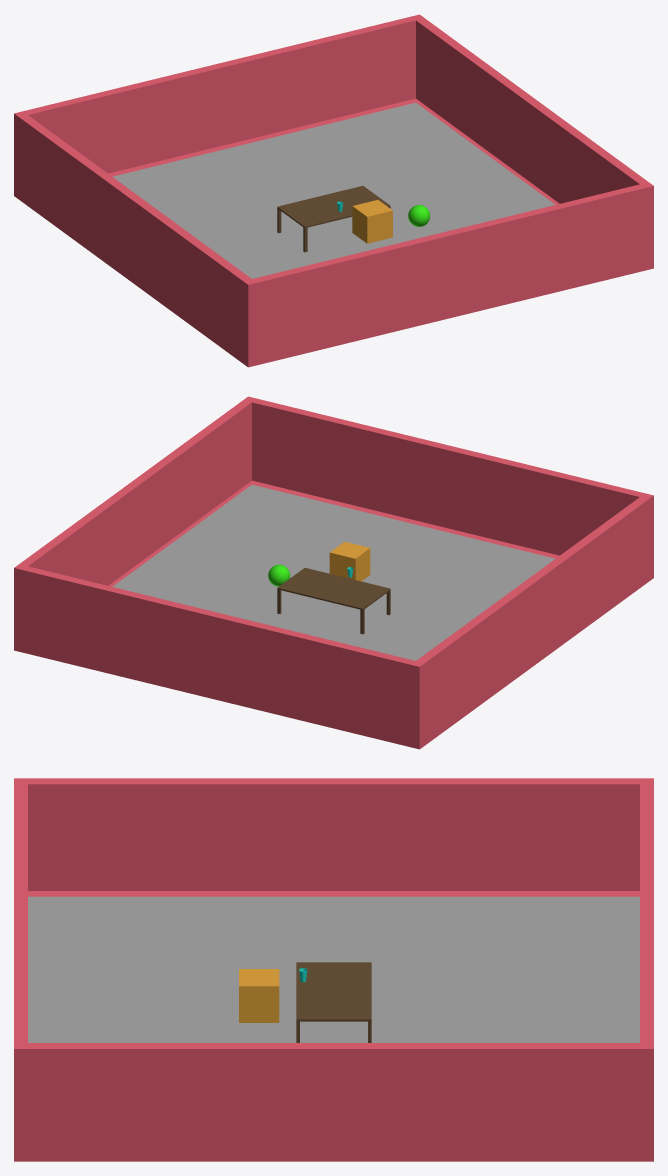
Rendered from environment2.glb.
3 views of the same model, one above another, from view 1: azimuth 30°, elevation 25°; view 2: azimuth 150°, elevation 25°; view 3: azimuth 270°, elevation 25° (orthographic). The views are drawn at different scales.
Visible parts, largest first — view 1: wall_back, floor, table, object_box; view 2: wall_back, floor, table, object_box; view 3: wall_back, floor, table, object_box.
Boxes of the visible parts, left/top/right/bottom form: wall_back: left=14, top=14, right=653, bottom=367; floor: left=112, top=102, right=555, bottom=278; table: left=277, top=186, right=390, bottom=252; object_box: left=352, top=200, right=392, bottom=243; wall_back: left=14, top=396, right=653, bottom=749; floor: left=112, top=484, right=555, bottom=660; table: left=277, top=568, right=390, bottom=634; object_box: left=329, top=541, right=370, bottom=581; wall_back: left=14, top=778, right=653, bottom=1161; floor: left=28, top=896, right=639, bottom=1042; table: left=296, top=962, right=371, bottom=1042; object_box: left=239, top=969, right=279, bottom=1022.
Size of the model in its own units: 16.99 by 3.3 by 16.99.
